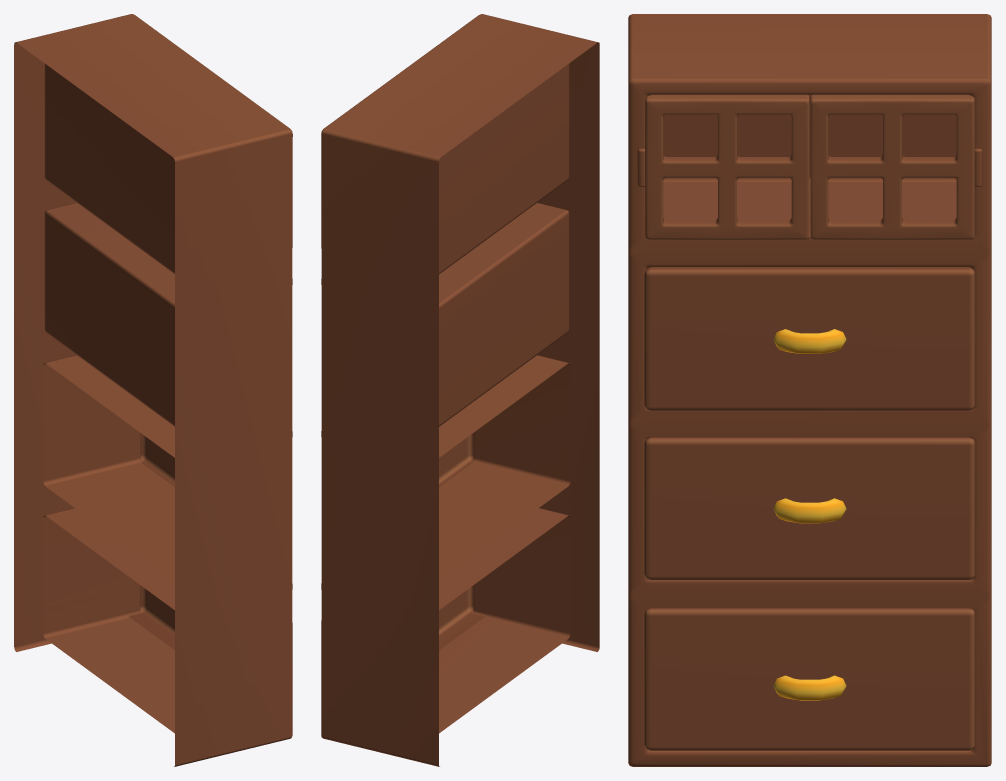
Rendered from wardrobe_1.fbx.
3 renders of one model, left to right at view 1: azimuth 30°, elevation 25°; view 2: azimuth 150°, elevation 25°; view 3: azimuth 270°, elevation 25°, orthographic. The views are drawn at different scales.
Visible parts, largest first — view 1: wardrobe_1; view 2: wardrobe_1; view 3: wardrobe_1.
Part boxes in pixels (x1,y1,x2,y2): wardrobe_1: (14, 14, 292, 766); wardrobe_1: (321, 14, 599, 766); wardrobe_1: (628, 14, 991, 766).
Size of the model in its own units: 7.59 by 32.38 by 15.49.
